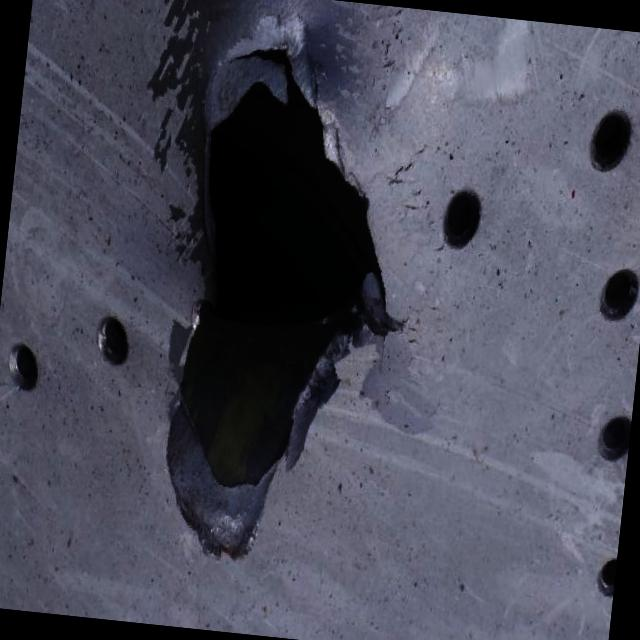crack: (147, 15, 436, 573)
